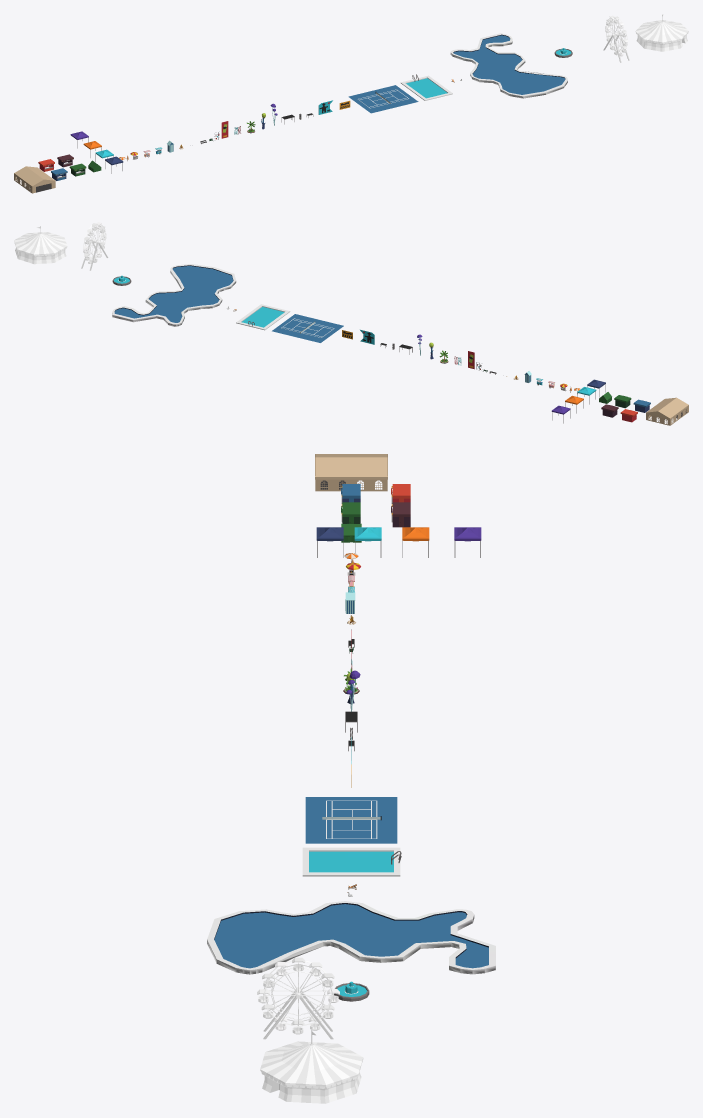
File: scene-props-2.glb
The picture shows the model from 3 angles, top to bottom: view 1: azimuth 30°, elevation 25°; view 2: azimuth 150°, elevation 25°; view 3: azimuth 270°, elevation 25°; orthographic projection. The views are drawn at different scales.
Parts seen in each view (by area): view 1: resort-pool, tent-circus-big, pickleball-court, tent-party-big, tile-pool-small, ferris-wheel; view 2: resort-pool, tent-circus-big, pickleball-court, tent-party-big, tile-pool-small, ferris-wheel; view 3: resort-pool, tent-circus-big, pickleball-court, ferris-wheel, tile-pool-small, tent-party-big.
Part boxes in pixels (x1,y1,x2,y2): resort-pool: (450,33,567,98); tent-circus-big: (635,14,688,51); pickleball-court: (348,85,418,113); tent-party-big: (14,166,55,193); tile-pool-small: (400,74,452,100); ferris-wheel: (603,15,629,62); resort-pool: (112,264,236,326); tent-circus-big: (14,226,67,264); pickleball-court: (272,314,343,342); tent-party-big: (646,397,688,425); tile-pool-small: (236,304,290,330); ferris-wheel: (81,222,108,270); resort-pool: (207,901,495,974); tent-circus-big: (260,1030,363,1103); pickleball-court: (305,797,397,843); ferris-wheel: (257,957,339,1039); tile-pool-small: (302,847,401,876); tent-party-big: (315,454,387,491).
Size of the model in its own units: 250 by 13.87 by 47.98.
Materials: 2 (2 with a texture image).
